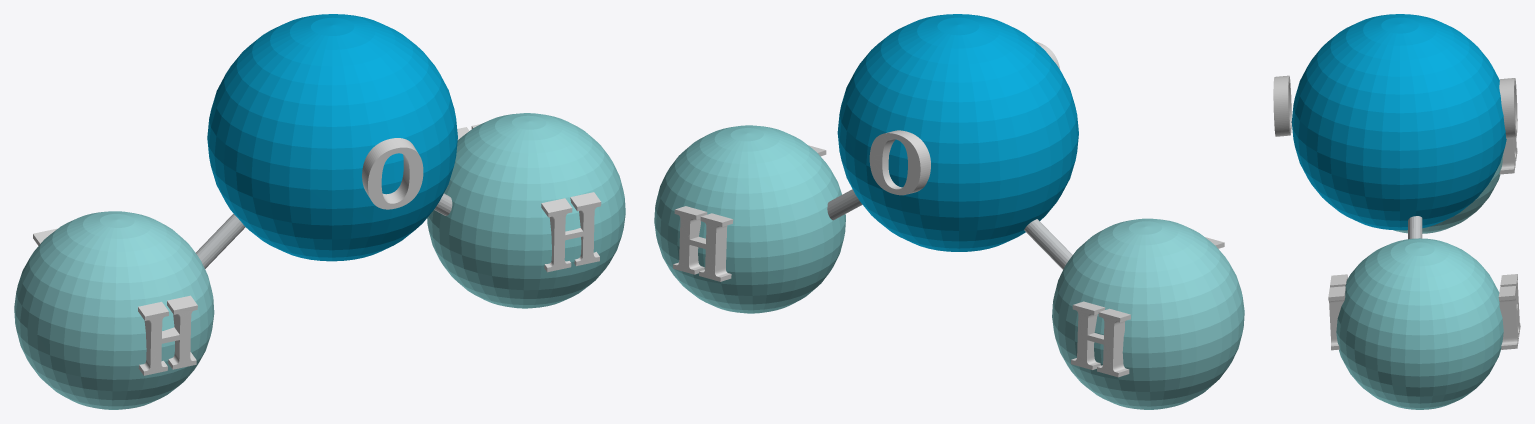
The model's file is Copy of Molecula del agua.glb.
The picture shows the model from 3 angles, left to right: view 1: azimuth 30°, elevation 25°; view 2: azimuth 150°, elevation 25°; view 3: azimuth 270°, elevation 25°; orthographic projection. The views are drawn at different scales.
Parts seen in each view (by area): view 1: Mesh_Mesh_head_geo.001_lambert2SG.001; view 2: Mesh_Mesh_head_geo.001_lambert2SG.001; view 3: Mesh_Mesh_head_geo.001_lambert2SG.001.
Part boxes in pixels (x1,y1,x2,y2): Mesh_Mesh_head_geo.001_lambert2SG.001: [14, 14, 625, 409]; Mesh_Mesh_head_geo.001_lambert2SG.001: [654, 14, 1244, 409]; Mesh_Mesh_head_geo.001_lambert2SG.001: [1273, 14, 1520, 409].
Bounding box in the file's own units: 0.1938 × 0.105 × 0.081.
